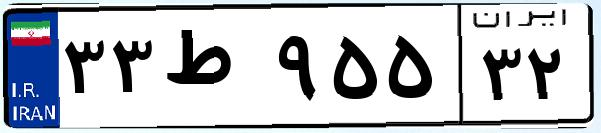2: (525, 38, 570, 115)
3: (57, 26, 110, 100), (475, 38, 525, 113), (110, 28, 158, 98)
5: (385, 28, 445, 110), (330, 28, 385, 110)
9: (270, 28, 330, 110)
ط: (158, 20, 270, 120)
